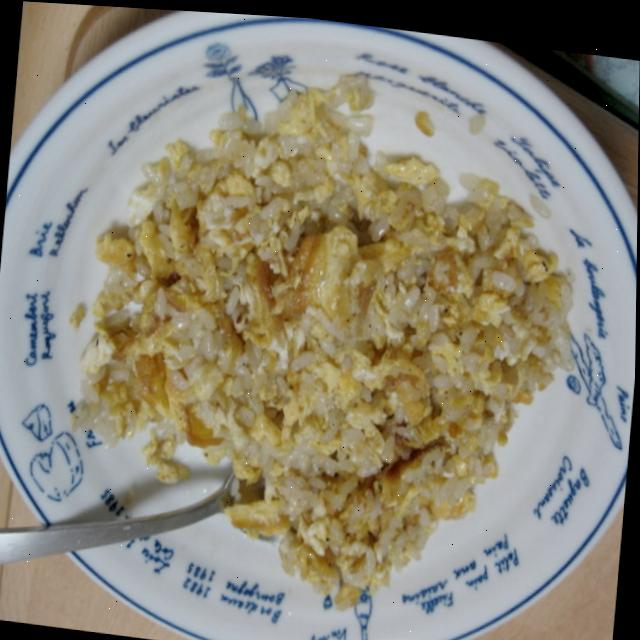米饭主食: (57, 56, 591, 640)
